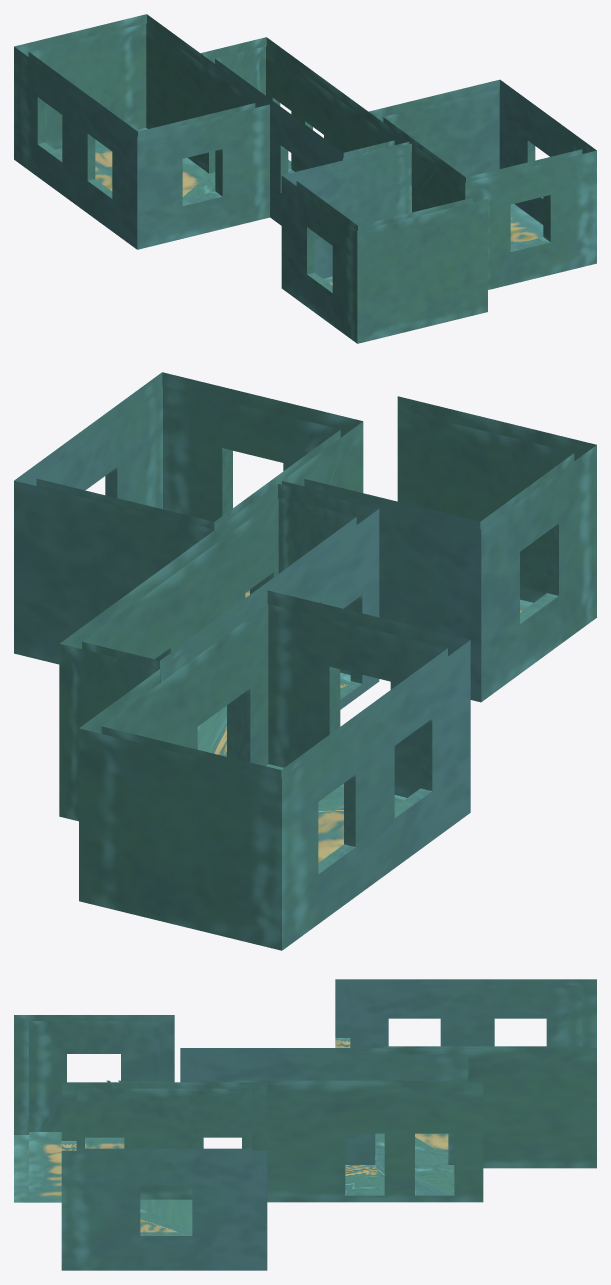
Rendered from DOM.fbx.
The picture shows the model from 3 angles, top to bottom: view 1: azimuth 30°, elevation 25°; view 2: azimuth 150°, elevation 25°; view 3: azimuth 270°, elevation 25°; orthographic projection. The views are drawn at different scales.
Visible parts, largest first — view 1: СТЕНЫ, КУХНЯ СТЕНЫ, ГОСТИНАЯ СТЕНЫ, КОРИДОР СТЕНЫ, СПАЛЬНЯ СТЕНЫ, КУХНЯ ПОЛ, ГОСТИНАЯ ПОЛ; view 2: СТЕНЫ, КУХНЯ СТЕНЫ, ГОСТИНАЯ СТЕНЫ, КОРИДОР СТЕНЫ, СПАЛЬНЯ СТЕНЫ, КУХНЯ ПОЛ, КОРИДОР ПОЛ; view 3: СТЕНЫ, КУХНЯ СТЕНЫ, ГОСТИНАЯ СТЕНЫ, КОРИДОР СТЕНЫ, СПАЛЬНЯ СТЕНЫ, КОРИДОР ПОЛ, СПАЛЬНЯ ПОЛ, ГОСТИНАЯ ПОЛ, КУХНЯ ПОЛ.
Part boxes in pixels (bbox=[...]): СТЕНЫ: bbox=[14, 14, 596, 343]; КУХНЯ СТЕНЫ: bbox=[28, 23, 255, 173]; ГОСТИНАЯ СТЕНЫ: bbox=[383, 88, 582, 224]; КОРИДОР СТЕНЫ: bbox=[215, 46, 394, 171]; СПАЛЬНЯ СТЕНЫ: bbox=[296, 152, 472, 278]; КУХНЯ ПОЛ: bbox=[56, 128, 215, 199]; ГОСТИНАЯ ПОЛ: bbox=[510, 204, 543, 244]; СТЕНЫ: bbox=[14, 372, 596, 950]; КУХНЯ СТЕНЫ: bbox=[101, 604, 447, 797]; ГОСТИНАЯ СТЕНЫ: bbox=[36, 386, 340, 529]; КОРИДОР СТЕНЫ: bbox=[82, 498, 356, 674]; СПАЛЬНЯ СТЕНЫ: bbox=[304, 410, 574, 602]; КУХНЯ ПОЛ: bbox=[265, 764, 406, 862]; КОРИДОР ПОЛ: bbox=[197, 672, 361, 756]; СТЕНЫ: bbox=[14, 979, 596, 1270]; КУХНЯ СТЕНЫ: bbox=[350, 985, 581, 1048]; ГОСТИНАЯ СТЕНЫ: bbox=[76, 1088, 251, 1199]; КОРИДОР СТЕНЫ: bbox=[195, 1054, 468, 1164]; СПАЛЬНЯ СТЕНЫ: bbox=[29, 1021, 159, 1131]; КОРИДОР ПОЛ: bbox=[345, 1161, 454, 1195]; СПАЛЬНЯ ПОЛ: bbox=[29, 1132, 124, 1191]; ГОСТИНАЯ ПОЛ: bbox=[140, 1199, 192, 1232]; КУХНЯ ПОЛ: bbox=[375, 1133, 448, 1161].
Size of the model in its own units: 723 by 236 by 1041.
